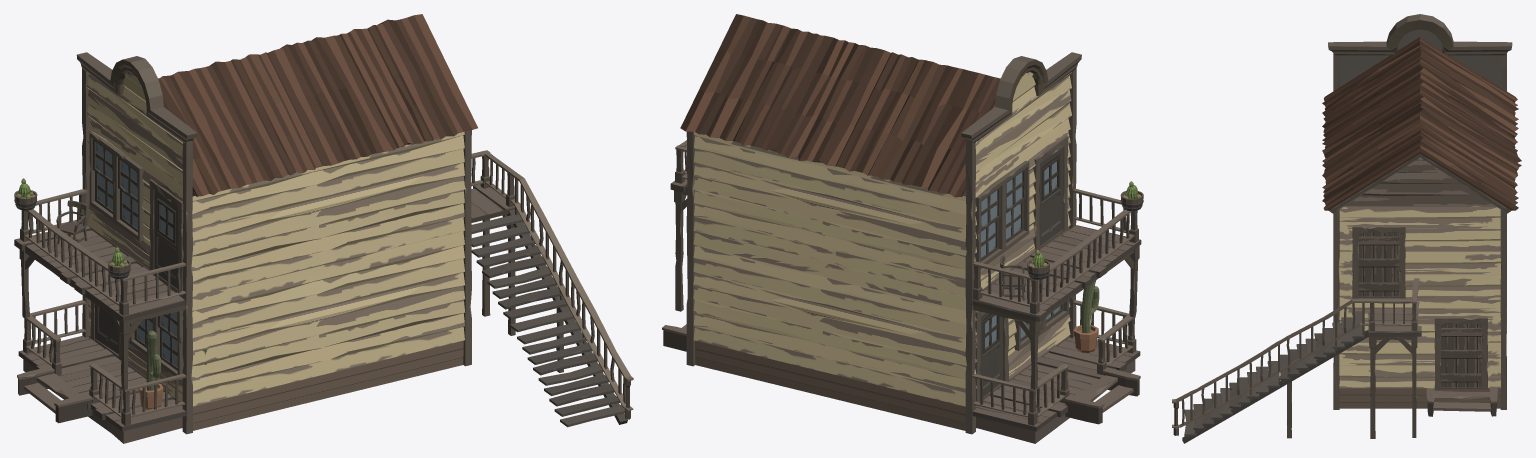
File: Hotel.glb
3 views of the same model, side by side, from view 1: azimuth 30°, elevation 25°; view 2: azimuth 150°, elevation 25°; view 3: azimuth 270°, elevation 25° (orthographic). The views are drawn at different scales.
Visible parts, largest first — view 1: Hotel, SM_Bld_Single_Roof_01, SM_Bld_Stairs_02__1_, SM_Bld_Single_Balcony_01, SM_Bld_Single_Deck_01, SM_Bld_Single_Facade_01, SM_Bld_Single_Front_01, SM_Bld_Single_Front_02, SM_Bld_DeckSteps_01__5_, SM_Building_Single_FrontDoor_01, SM_Building_Single_Front_Window_01, SM_Prop_PlantPot_01_1 (+3 smaller); view 2: Hotel, SM_Bld_Single_Roof_01, SM_Bld_Single_Balcony_01, SM_Bld_Single_Deck_01, SM_Bld_Single_Facade_01, SM_Bld_Single_Front_01, SM_Bld_Single_Front_02, SM_Bld_DeckSteps_01__5_, SM_Building_Single_FrontDoor_01, SM_Bld_Stairs_02__1_, SM_Building_Single_FrontDoor_02, SM_Building_Single_Front_Window_01 (+5 smaller); view 3: SM_Bld_Single_Roof_01, Hotel, SM_Bld_Stairs_02__1_, SM_Bld_Single_Facade_01, SM_Bld_Double_BackDoor_04, SM_Bld_Double_BackDoor_03, SM_Bld_DeckSteps_01__7_.
Boxes of the visible parts, x1,y1,x2,y2 form: Hotel: (82,82,471,434); SM_Bld_Single_Roof_01: (158,14,477,196); SM_Bld_Stairs_02__1_: (471,150,633,427); SM_Bld_Single_Balcony_01: (14,189,185,389); SM_Bld_Single_Deck_01: (18,300,186,443); SM_Bld_Single_Facade_01: (76,52,197,185); SM_Bld_Single_Front_01: (88,118,183,294); SM_Bld_Single_Front_02: (88,300,183,401); SM_Bld_DeckSteps_01__5_: (17,366,92,423); SM_Building_Single_FrontDoor_01: (154,190,178,288); SM_Building_Single_Front_Window_01: (96,142,137,228); SM_Prop_PlantPot_01_1: (138,330,163,409); Hotel: (686,82,1076,434); SM_Bld_Single_Roof_01: (680,14,1000,197); SM_Bld_Single_Balcony_01: (972,188,1141,389); SM_Bld_Single_Deck_01: (972,300,1140,443); SM_Bld_Single_Facade_01: (961,52,1081,184); SM_Bld_Single_Front_01: (974,118,1070,289); SM_Bld_Single_Front_02: (974,299,1070,402); SM_Bld_DeckSteps_01__5_: (1064,367,1140,424); SM_Building_Single_FrontDoor_01: (1039,147,1063,245); SM_Bld_Stairs_02__1_: (670,140,687,311); SM_Building_Single_FrontDoor_02: (979,313,1002,396); SM_Building_Single_Front_Window_01: (981,172,1022,257); SM_Bld_Single_Roof_01: (1322,37,1521,213); Hotel: (1333,66,1506,409); SM_Bld_Stairs_02__1_: (1172,278,1421,443); SM_Bld_Single_Facade_01: (1328,14,1512,86); SM_Bld_Double_BackDoor_04: (1358,232,1399,296); SM_Bld_Double_BackDoor_03: (1441,323,1481,387); SM_Bld_DeckSteps_01__7_: (1426,388,1497,416).
Bounding box in the file's own units: 12.96 × 9.42 × 10.45.
Materials: 6 (5 with a texture image).
